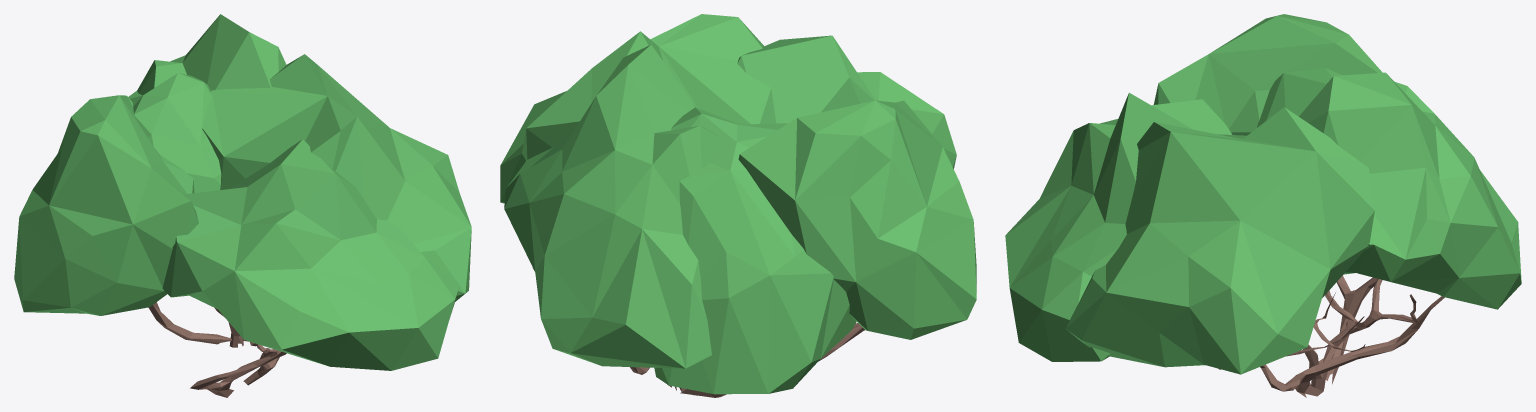
File: Tree_061.glb
3 views of the same model, side by side, from view 1: azimuth 30°, elevation 25°; view 2: azimuth 150°, elevation 25°; view 3: azimuth 270°, elevation 25° (orthographic). The views are drawn at different scales.
Parts seen in each view (by area): view 1: Tree_061; view 2: Tree_061; view 3: Tree_061.
Boxes of the visible parts, box(x1,y1,x2,y2) form: Tree_061: box(14, 14, 471, 397); Tree_061: box(500, 14, 976, 397); Tree_061: box(1005, 14, 1521, 397).
Size of the model in its own units: 4.64 by 3.15 by 4.52.
1 material, 1 textured.
